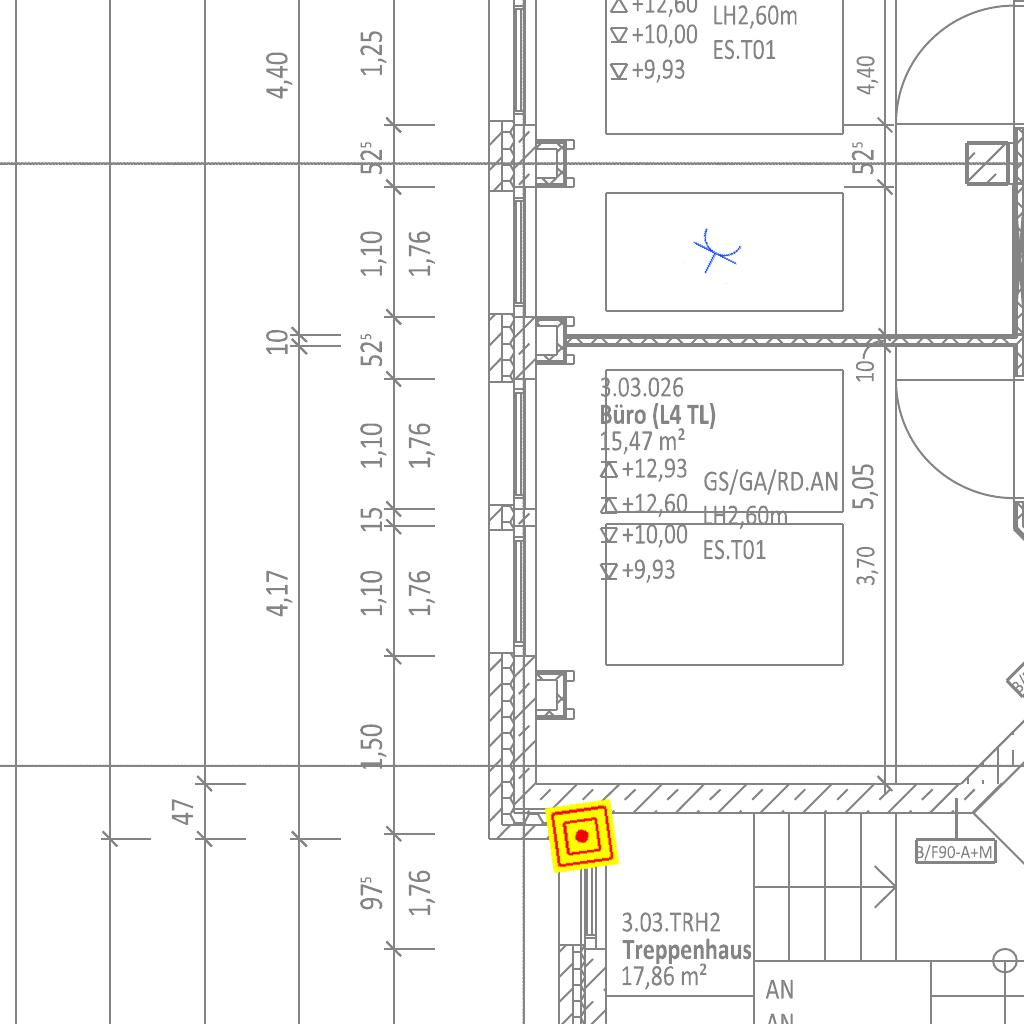NAM-Nichtautomatischer_Melder: (544, 798, 620, 874)
Schukosteckdose_einfach: (682, 223, 748, 286)
